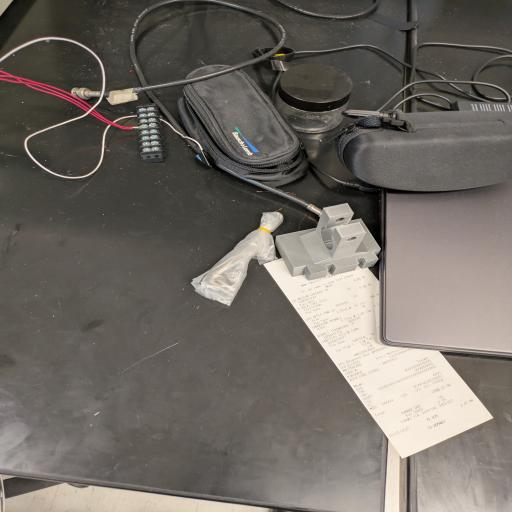rubberband: (190, 211, 286, 304)
